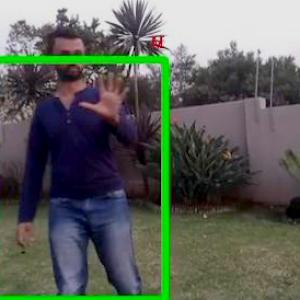follow_hand: (79, 66, 132, 121)
